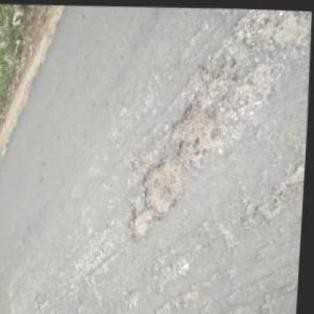Hueco: (165, 93, 224, 164), (141, 152, 187, 217), (129, 205, 156, 240)
